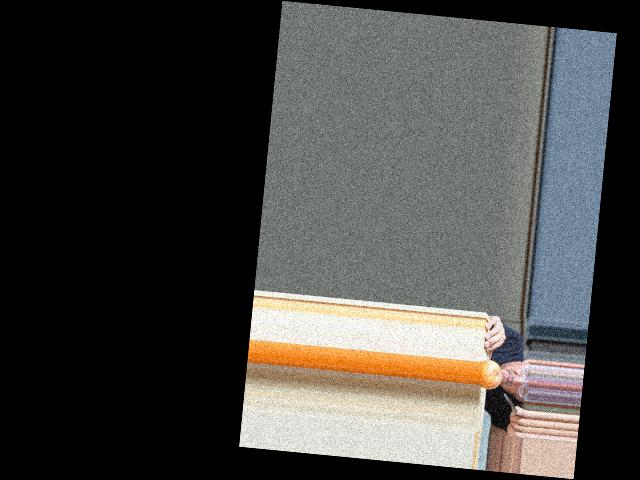onion: (478, 358, 503, 391)
